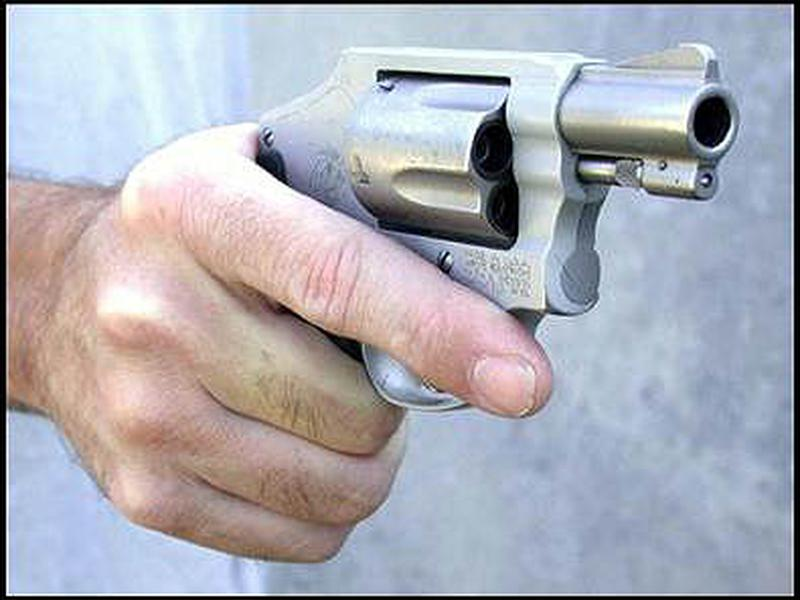Revolver: (229, 24, 751, 422)
